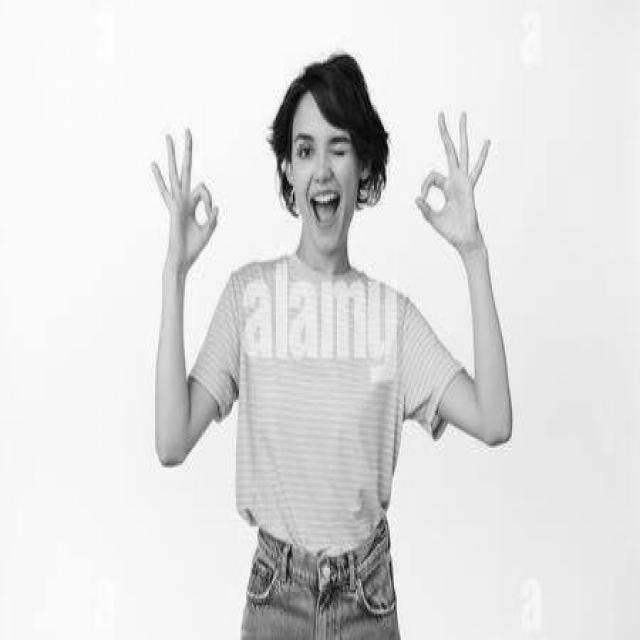perfect: (409, 102, 496, 254), (147, 121, 222, 277)
